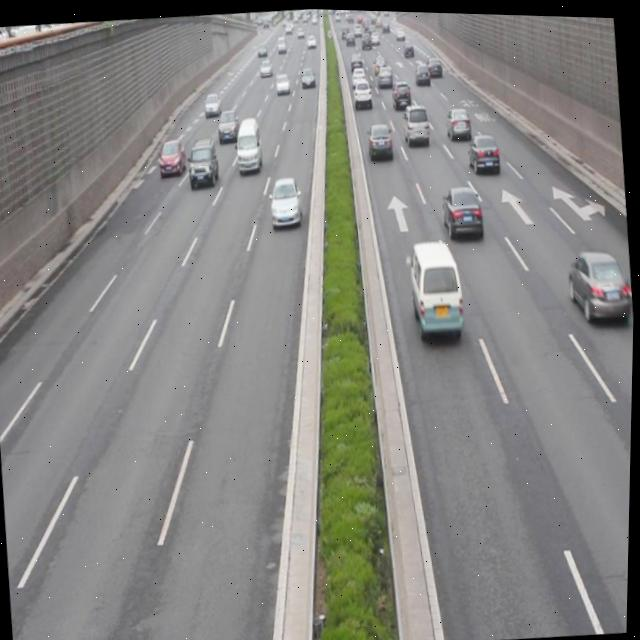car: (564, 241, 636, 320), (440, 180, 484, 239), (186, 137, 222, 190), (267, 173, 302, 223), (465, 128, 500, 173), (401, 99, 430, 144), (158, 135, 188, 177), (442, 101, 471, 141), (366, 119, 393, 157), (215, 103, 240, 142)
truck: (406, 235, 465, 333), (233, 112, 264, 172)
